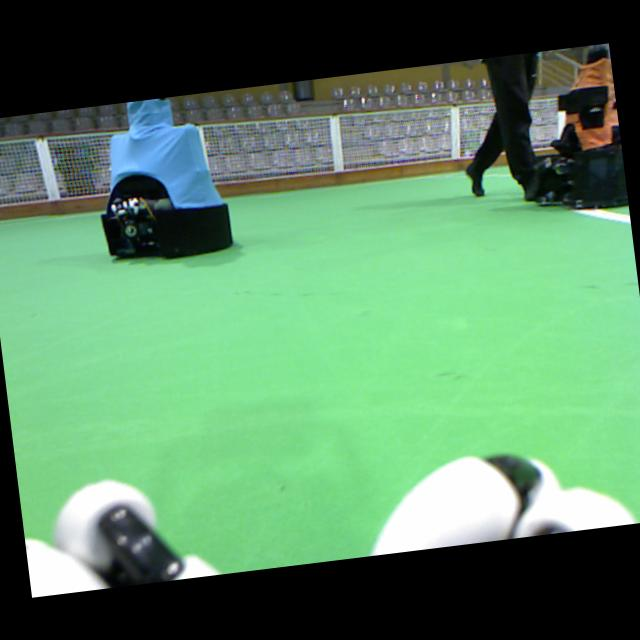robot: (533, 44, 627, 211)
